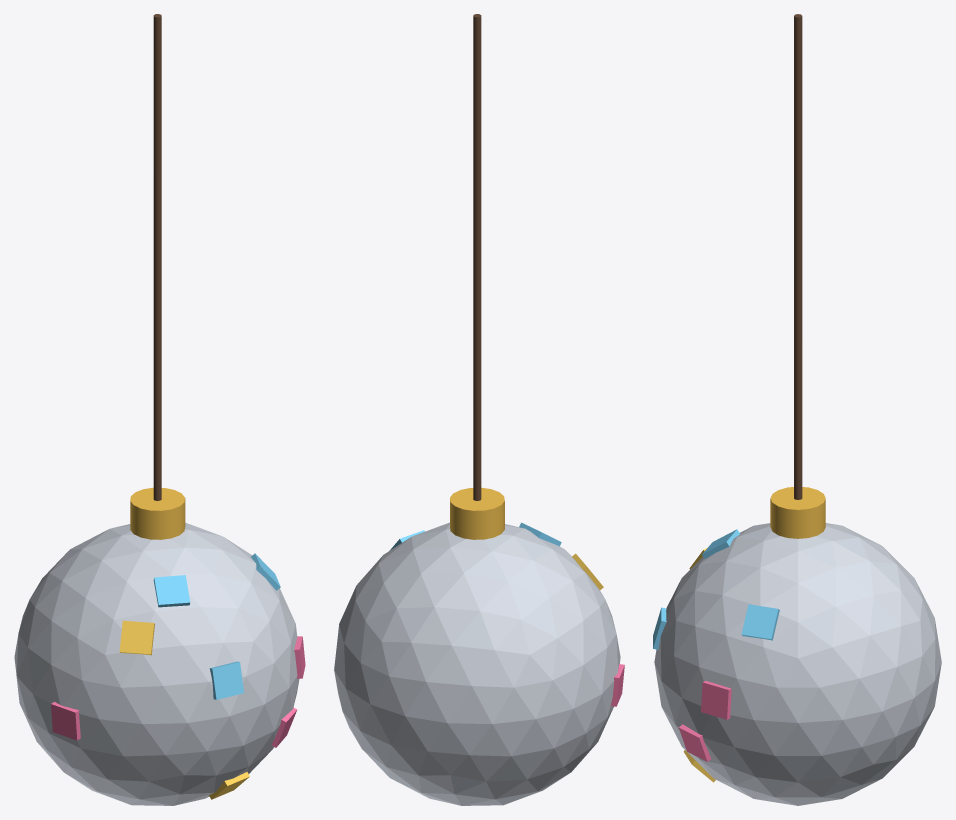
Rendered from pow_diskokugel.glb.
3 views of the same model, side by side, from view 1: azimuth 30°, elevation 25°; view 2: azimuth 150°, elevation 25°; view 3: azimuth 270°, elevation 25° (orthographic).
Parts seen in each view (by area): view 1: pow_diskokugel; view 2: pow_diskokugel; view 3: pow_diskokugel.
Part boxes in pixels (<box>): pow_diskokugel: <box>14,14,305,805</box>; pow_diskokugel: <box>334,14,624,805</box>; pow_diskokugel: <box>653,14,941,805</box>.
Bounding box in the file's own units: 0.54 × 1.61 × 0.5424.
